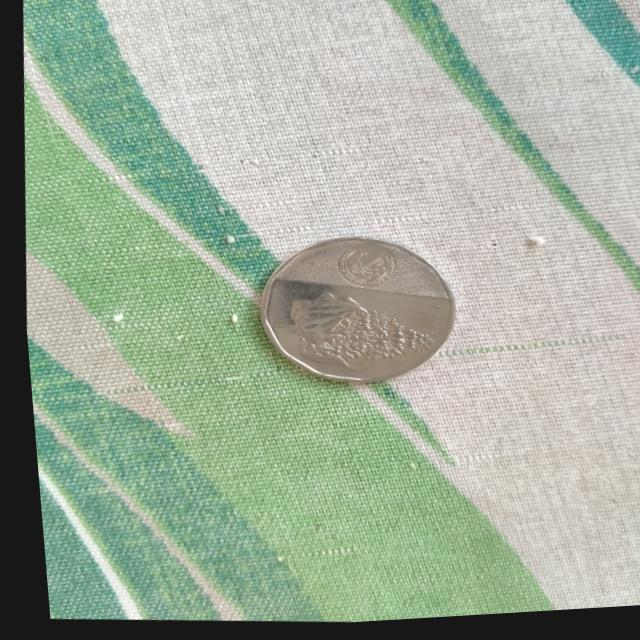10_New_Back: (253, 278, 450, 382)
